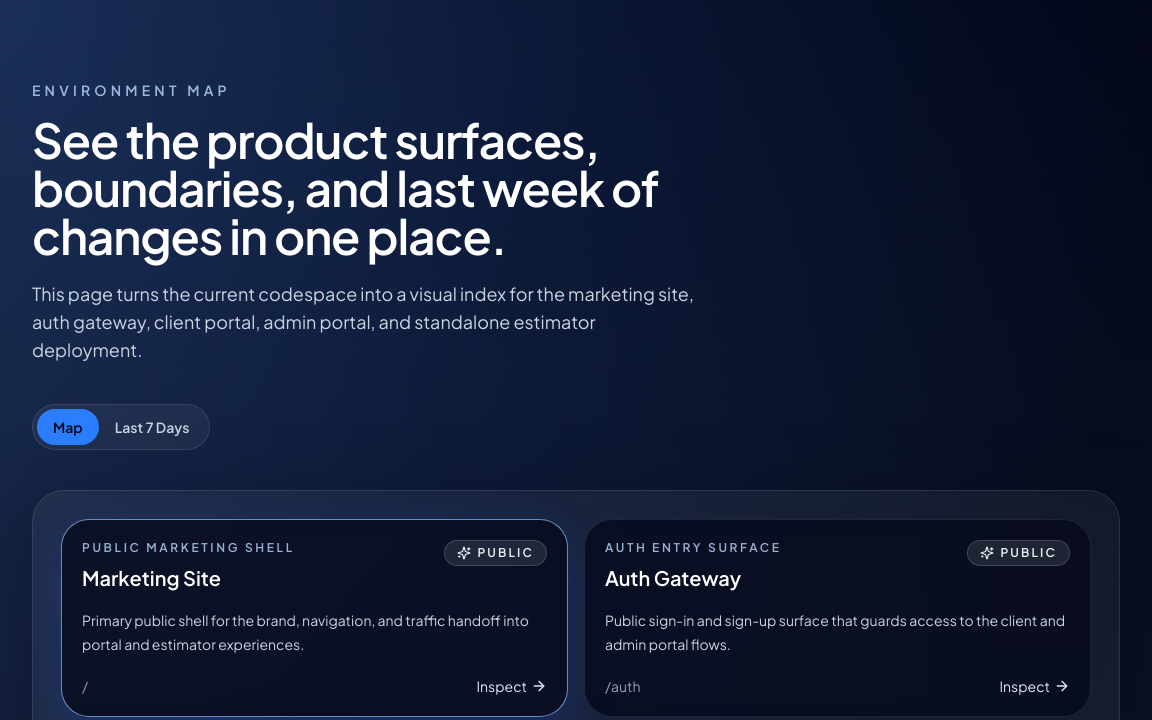
Test case: EnvironmentsPage › shows grouped timeline entries for the requested last-week window
Click the button "Last 7 Days". click: (152, 427)
box: [99,409,205,445]
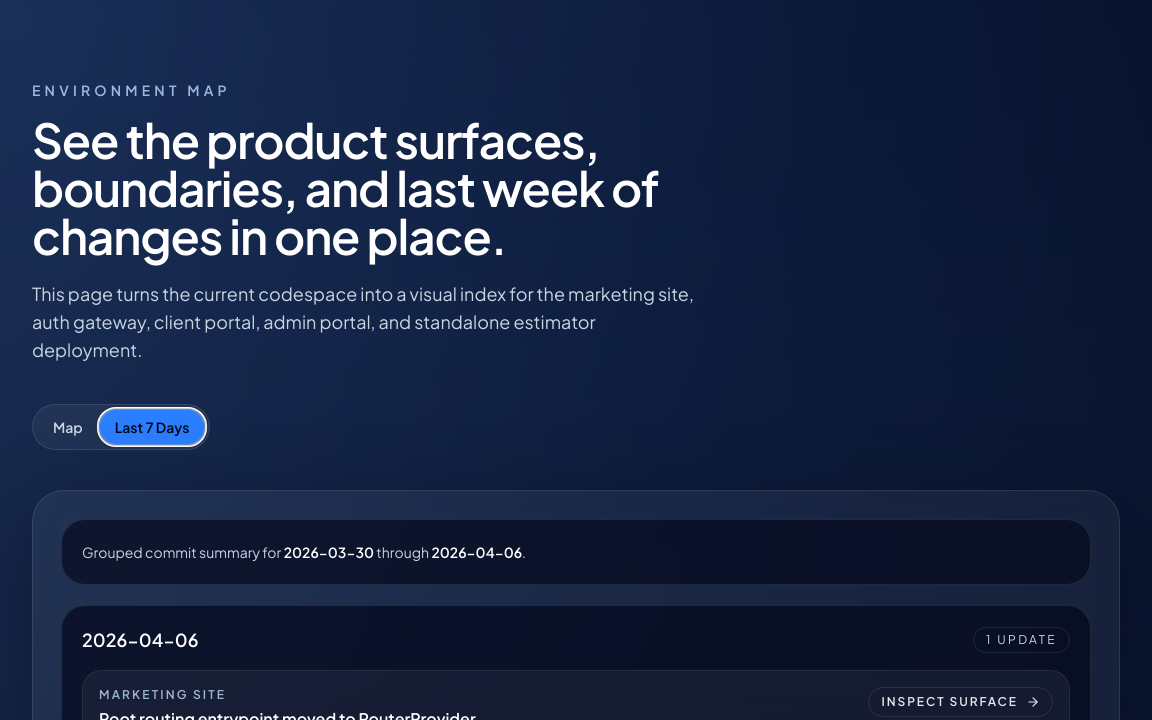
Check: the text "2026-04-06" is shown, box [431,543,522,561]
Check: the text "2026-03-30" is shown, box [284,543,374,561]
